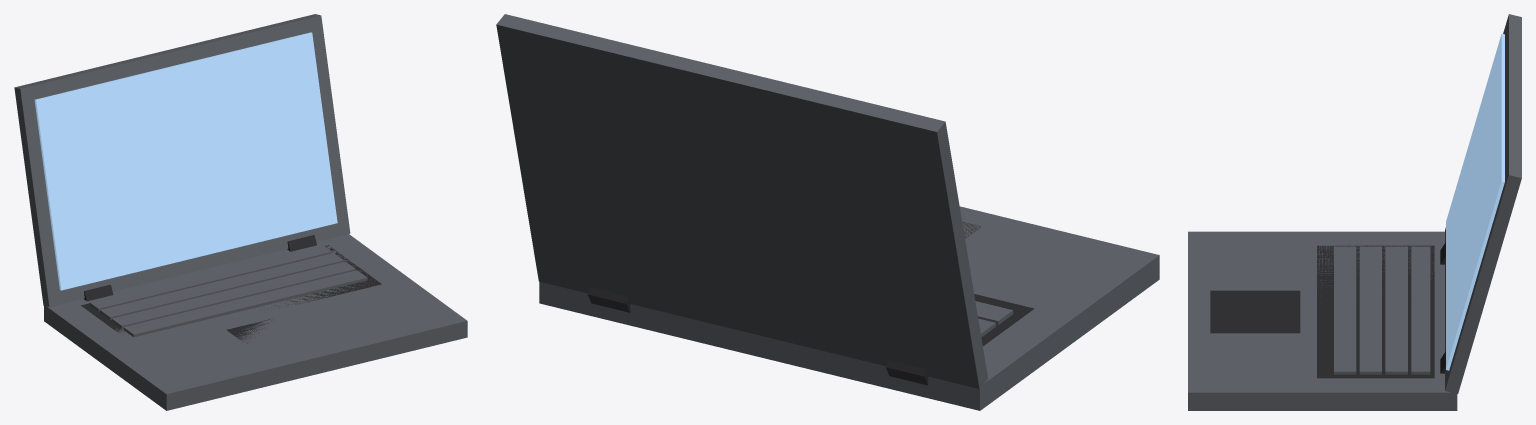
Rendered from FN_Laptop.glb.
The picture shows the model from 3 angles, left to right: view 1: azimuth 30°, elevation 25°; view 2: azimuth 150°, elevation 25°; view 3: azimuth 270°, elevation 25°; orthographic projection. The views are drawn at different scales.
Visible parts, largest first — view 1: FN_Laptop; view 2: FN_Laptop; view 3: FN_Laptop.
Part boxes in pixels (box(x1,y1,x2,y2)): FN_Laptop: box(14, 14, 467, 410); FN_Laptop: box(496, 14, 1159, 410); FN_Laptop: box(1188, 14, 1521, 410).
Bounding box in the file's own units: 0.34 × 0.2321 × 0.2977.
2 materials, 2 textured.
